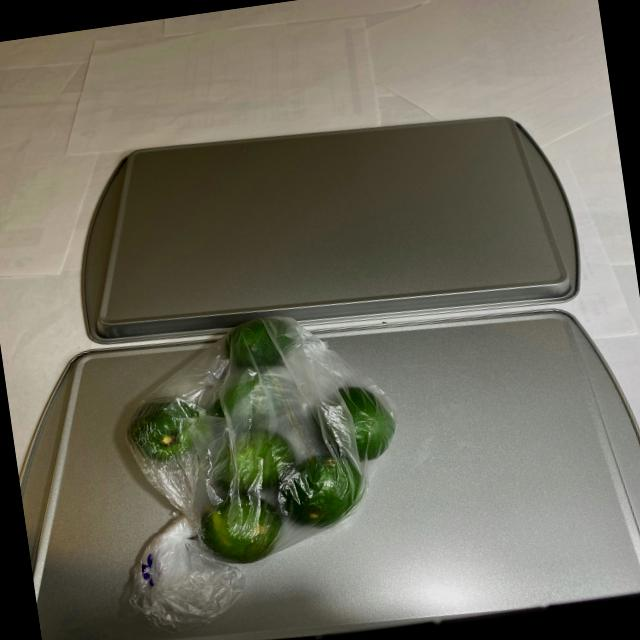lemon: (106, 300, 413, 602)
